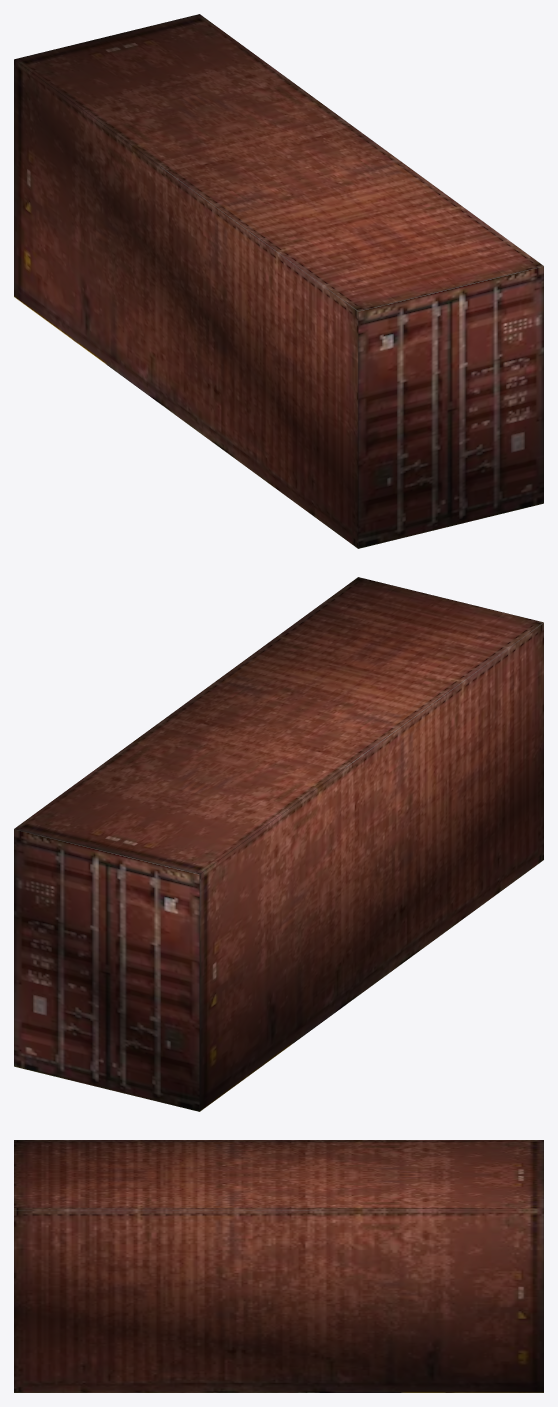
Rendered from psx_industrial_pack_cargo_container.glb.
3 renders of one model, top to bottom at view 1: azimuth 30°, elevation 25°; view 2: azimuth 150°, elevation 25°; view 3: azimuth 270°, elevation 25°, orthographic. The views are drawn at different scales.
Parts seen in each view (by area): view 1: CargoContainer; view 2: CargoContainer; view 3: CargoContainer.
Part boxes in pixels (left/top/right/bottom): CargoContainer: left=14, top=14, right=543, bottom=548; CargoContainer: left=14, top=577, right=543, bottom=1111; CargoContainer: left=14, top=1140, right=543, bottom=1392.
Size of the model in its own units: 2.03 by 2.48 by 6.5.
1 material, 1 textured.
